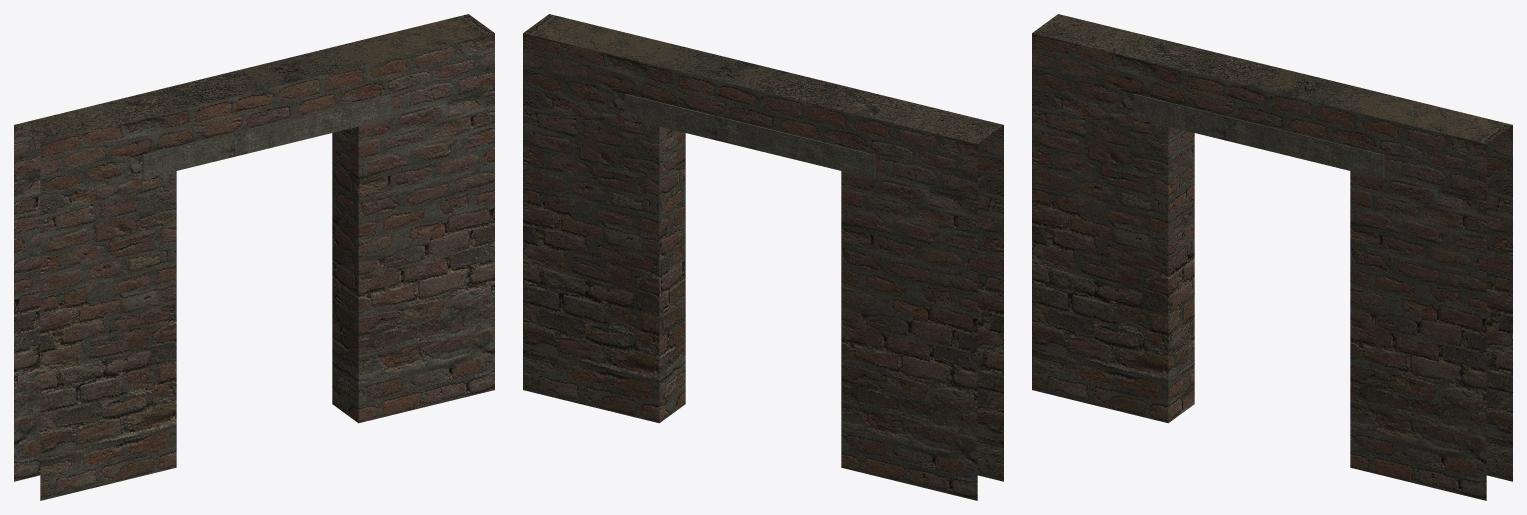
File: doorway_hr_2_wide.glb
3 renders of one model, left to right at view 1: azimuth 30°, elevation 25°; view 2: azimuth 150°, elevation 25°; view 3: azimuth 330°, elevation 25°, orthographic.
Visible parts, largest first — view 1: doorway_hr_2_wide; view 2: doorway_hr_2_wide; view 3: doorway_hr_2_wide.
Boxes of the visible parts, left/top/right/bottom form: doorway_hr_2_wide: left=14, top=14, right=494, bottom=500; doorway_hr_2_wide: left=523, top=14, right=1003, bottom=500; doorway_hr_2_wide: left=1032, top=14, right=1512, bottom=500.
Size of the model in its own units: 4 by 3 by 0.42.
Materials: 3 (3 with a texture image).
